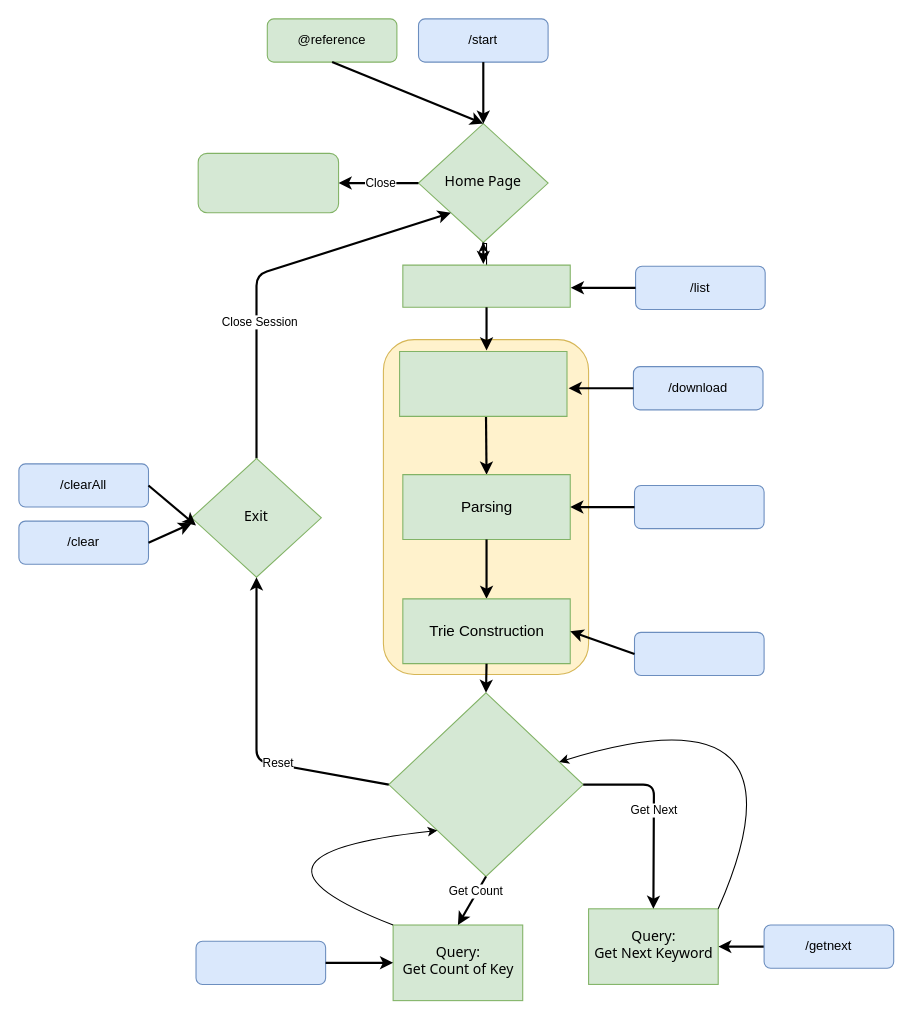
This 913x1020 diagram has some shape labels left out. The shapes that lost their labels are listed below. From the top down, each one's centre as x and y in pixels, then its label:
At pixel 268 182: "Delete Message/END".
At pixel 486 285: "Start a new session or select from list".
At pixel 483 383: "Downloading".
At pixel 698 506: "/parse".
At pixel 698 653: "/maketrie".
At pixel 485 784: "Query Menu".
At pixel 260 962: "/getcount".
